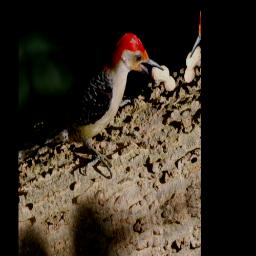Woodpecker: (31, 20, 178, 209)
